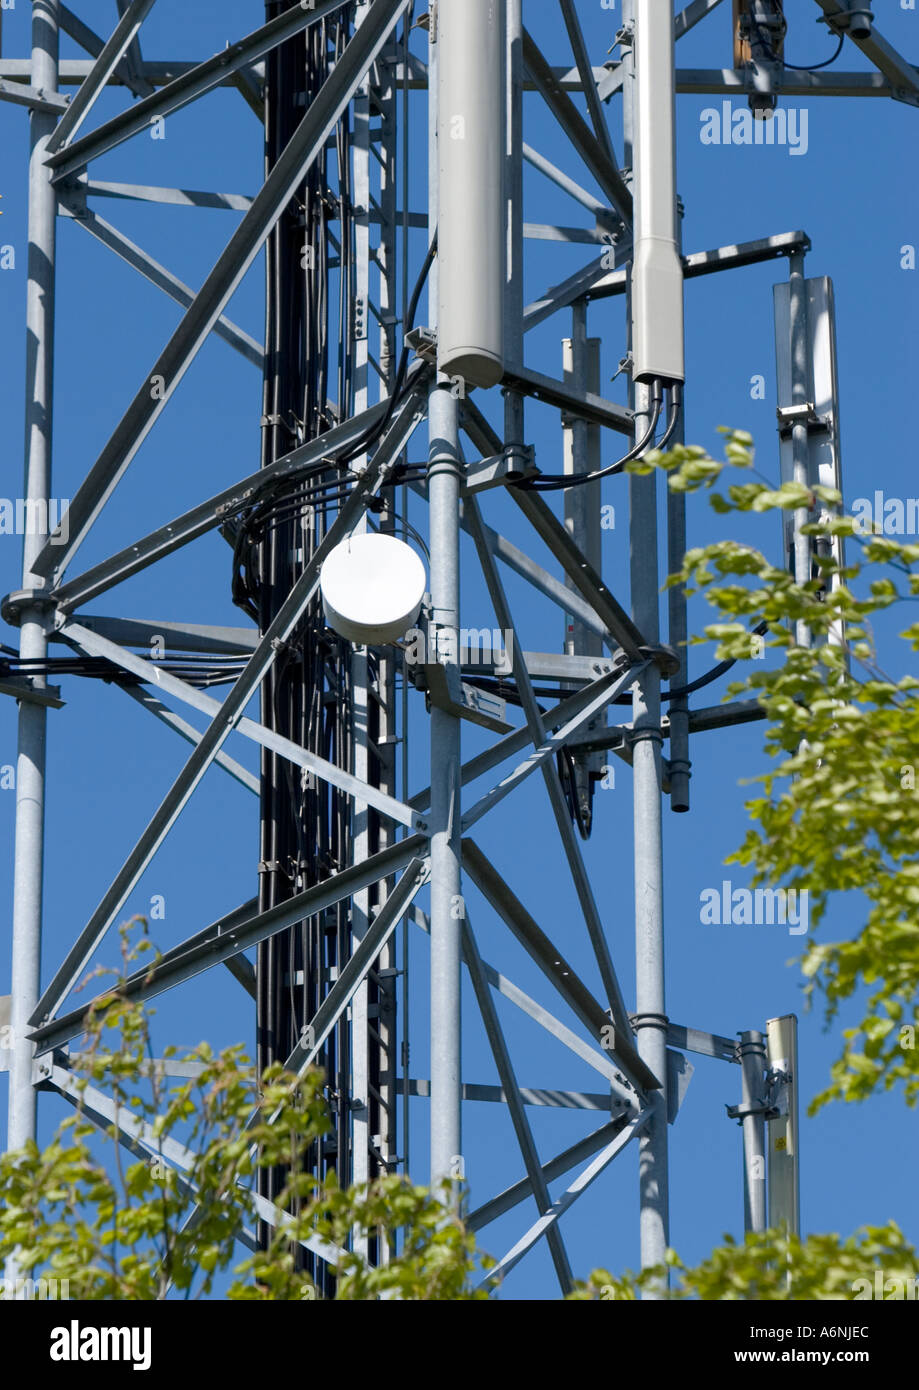ba: (314, 510, 426, 673)
sa: (736, 261, 843, 577)
